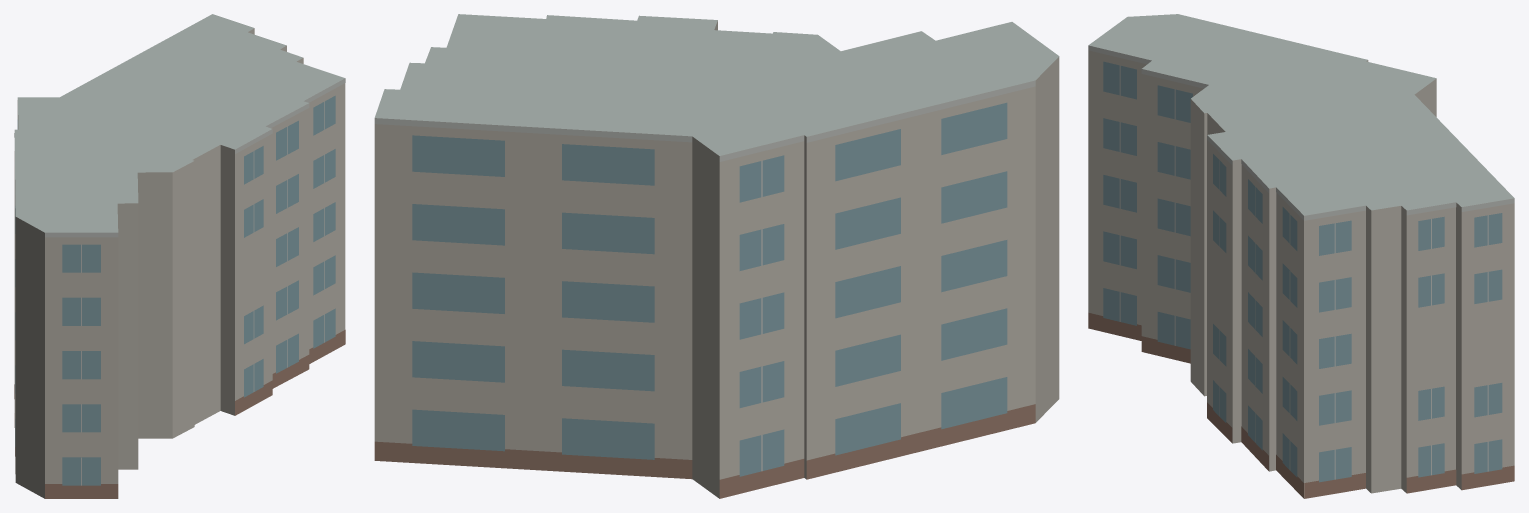
File: survey-upis-32612749.glb
3 views of the same model, side by side, from view 1: azimuth 30°, elevation 25°; view 2: azimuth 150°, elevation 25°; view 3: azimuth 270°, elevation 25° (orthographic). The views are drawn at different scales.
Visible parts, largest first — view 1: survey-upis-32612749.tmp; view 2: survey-upis-32612749.tmp; view 3: survey-upis-32612749.tmp.
Boxes of the visible parts, x1=… form: survey-upis-32612749.tmp: x1=14, y1=14, x2=345, y2=498; survey-upis-32612749.tmp: x1=374, y1=14, x2=1059, y2=498; survey-upis-32612749.tmp: x1=1088, y1=14, x2=1514, y2=498.
Size of the model in its own units: 21.27 by 13.9 by 18.99.
